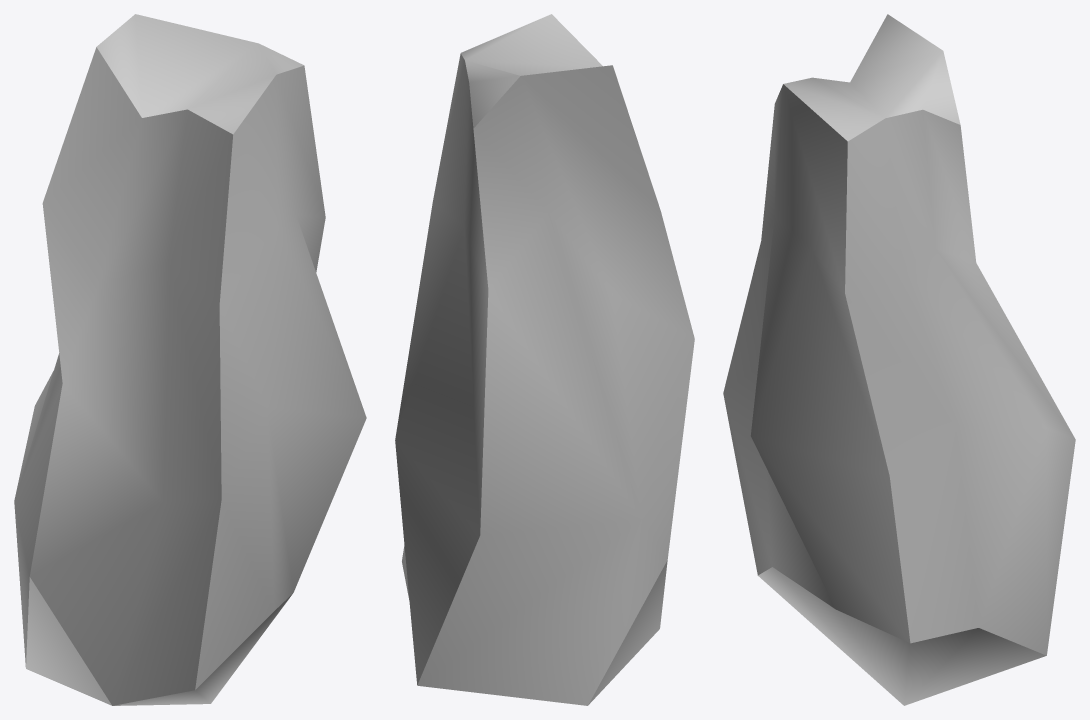
Rendered from Char_GL_Finger.FBX.
The picture shows the model from 3 angles, left to right: view 1: azimuth 30°, elevation 25°; view 2: azimuth 150°, elevation 25°; view 3: azimuth 270°, elevation 25°; orthographic projection. The views are drawn at different scales.
Parts seen in each view (by area): view 1: Box001; view 2: Box001; view 3: Box001.
Part boxes in pixels (box(x1,y1,x2,y2)): Box001: box(14, 14, 366, 705); Box001: box(395, 14, 694, 705); Box001: box(723, 14, 1075, 705).
Size of the model in its own units: 3.54 by 8.41 by 4.22.
